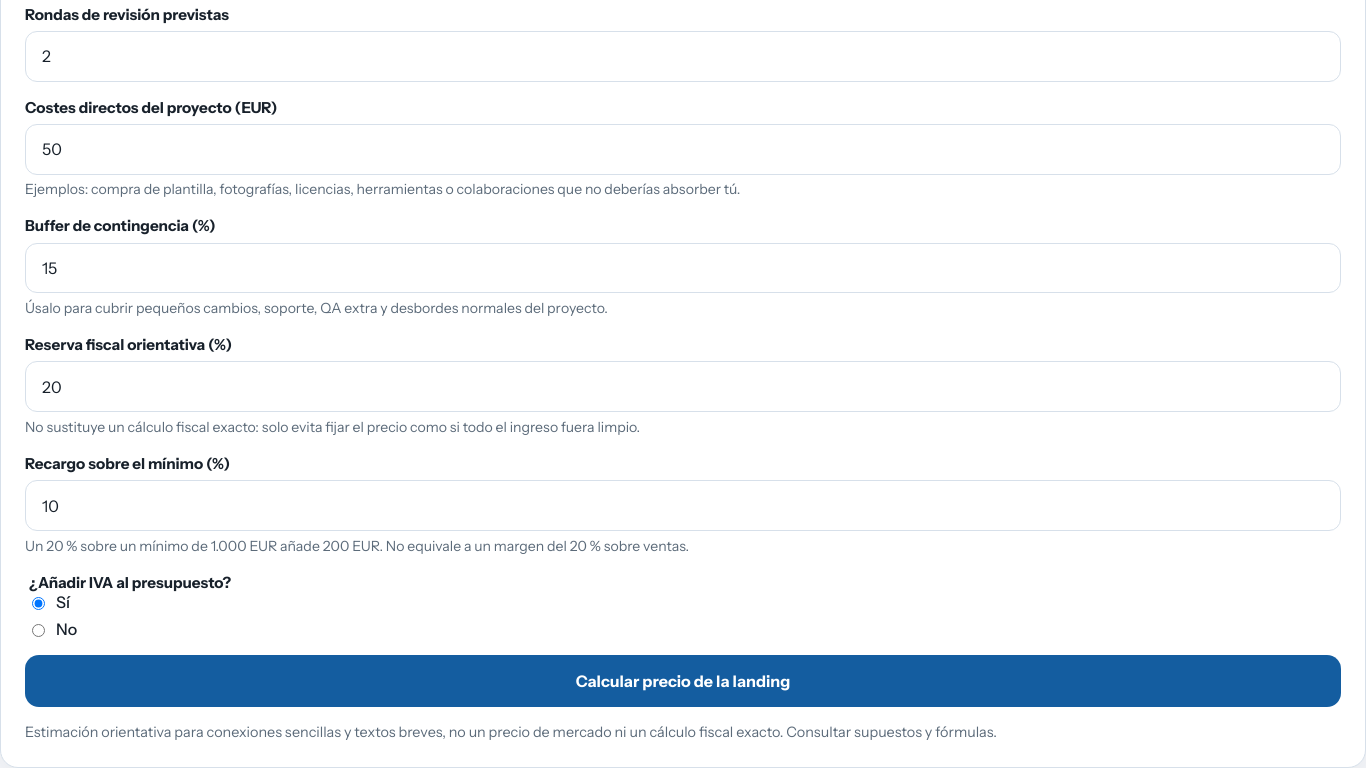
Scenario: CalculatorForm › does not label an untaxed simulation as including VAT
(page scrolled)
Click the radio button labelled "No": (38, 631) x1=32 y1=624 x2=45 y2=637
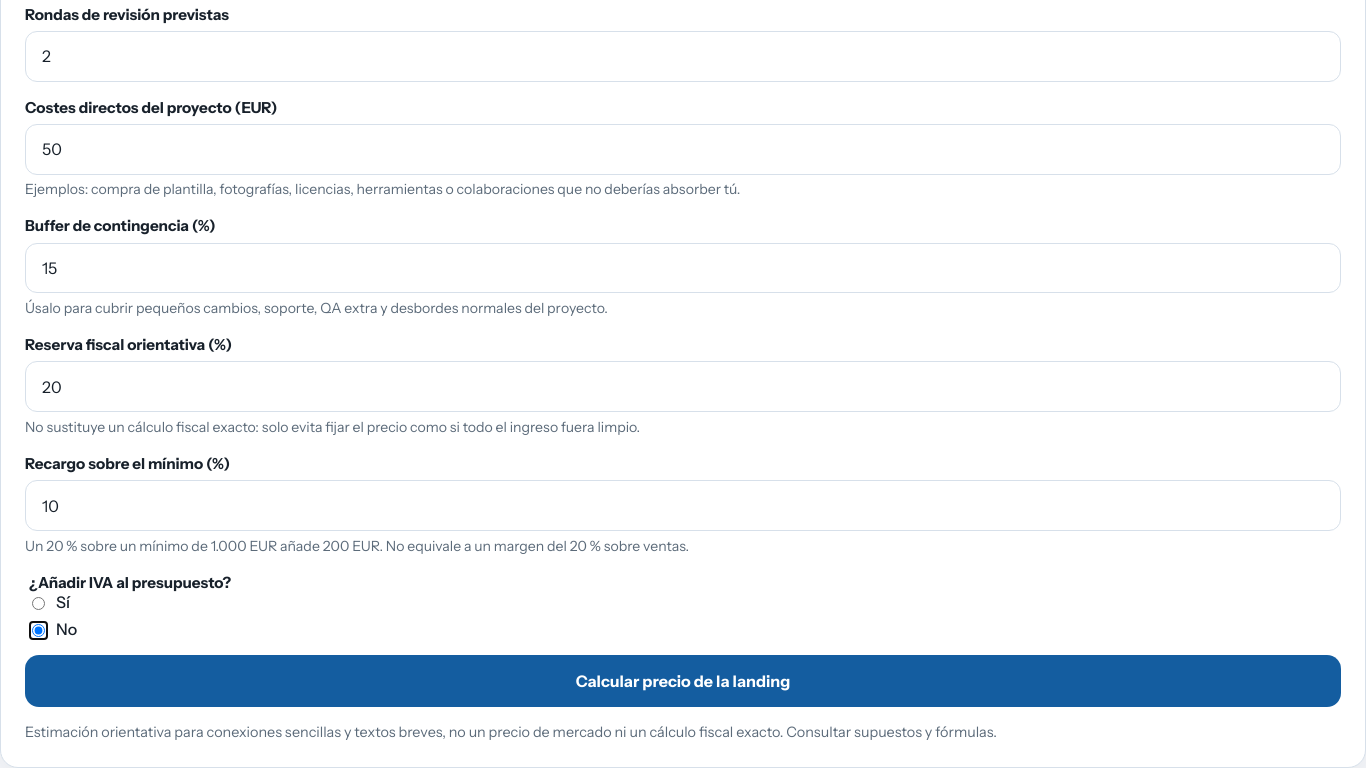
Click the button "Calcular precio de la landing": (683, 681) x1=25 y1=655 x2=1341 y2=707
(page scrolled)
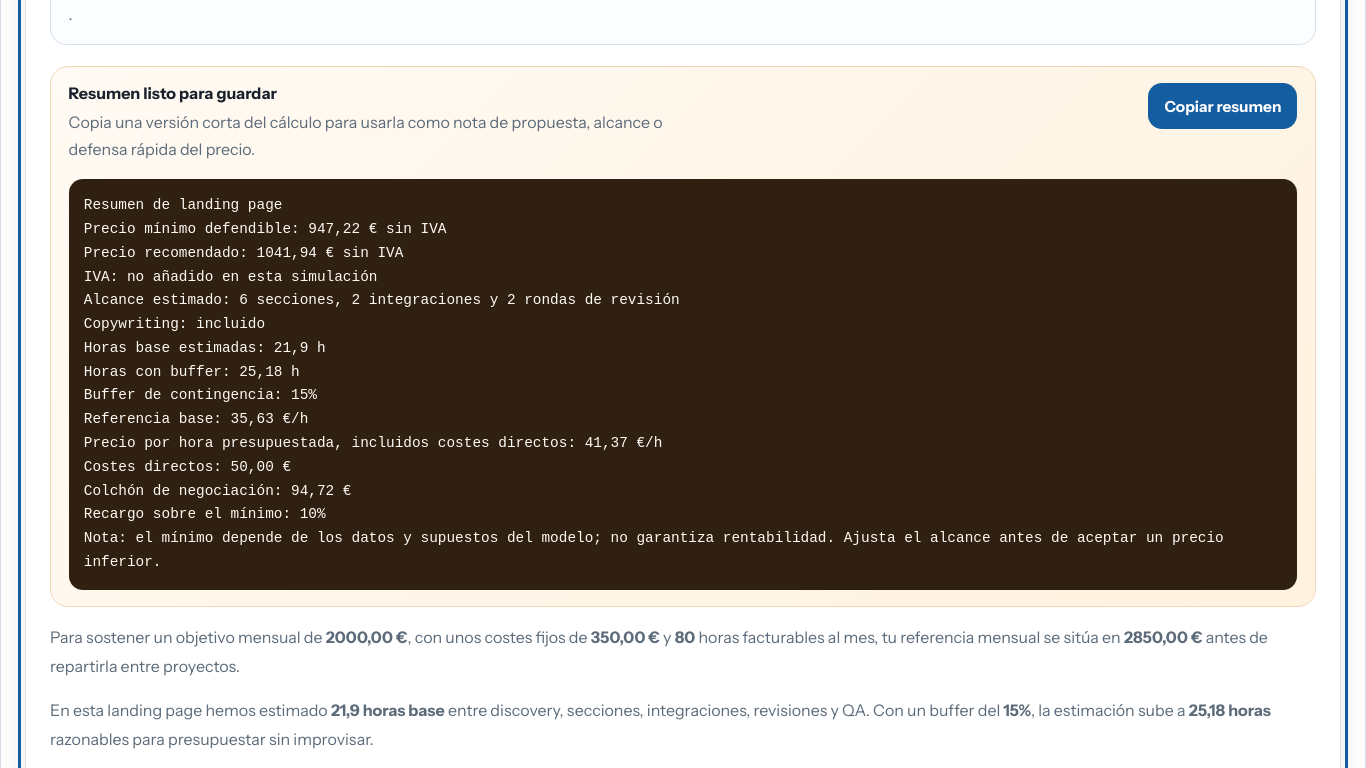
Result: the text "IVA: no añadido en esta simulación" is shown at x1=84 y1=197 x2=1232 y2=570
